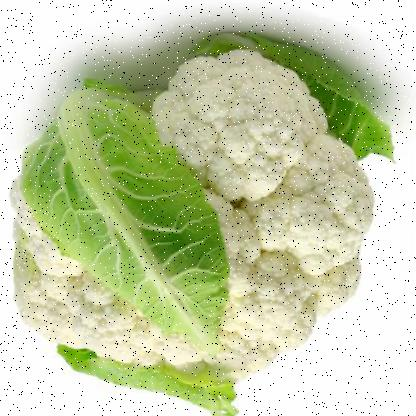cauliflower: (7, 53, 374, 404)
